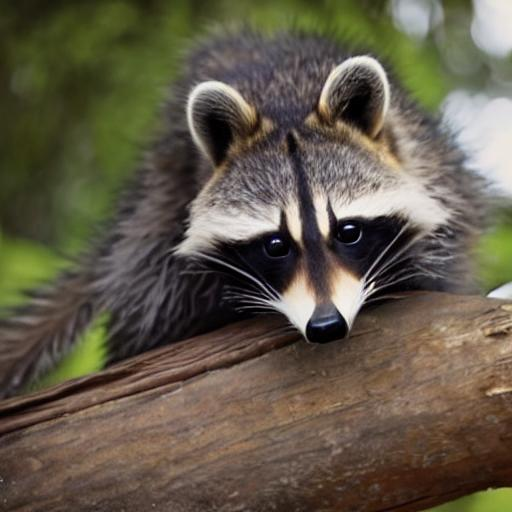raccoon: (0, 24, 485, 377)
